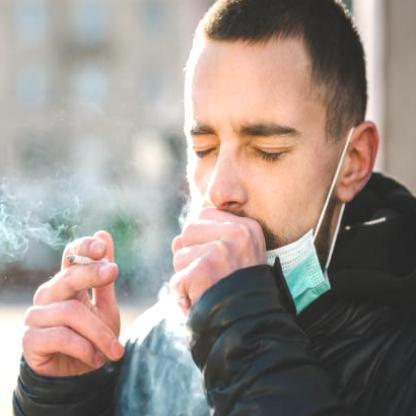cigarette: (66, 255, 110, 266)
person: (168, 0, 385, 415)
smoke: (146, 350, 204, 415), (0, 199, 66, 253)
